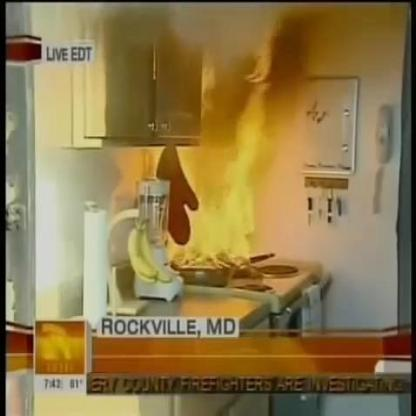fire: (149, 146, 258, 268), (198, 19, 303, 144)
